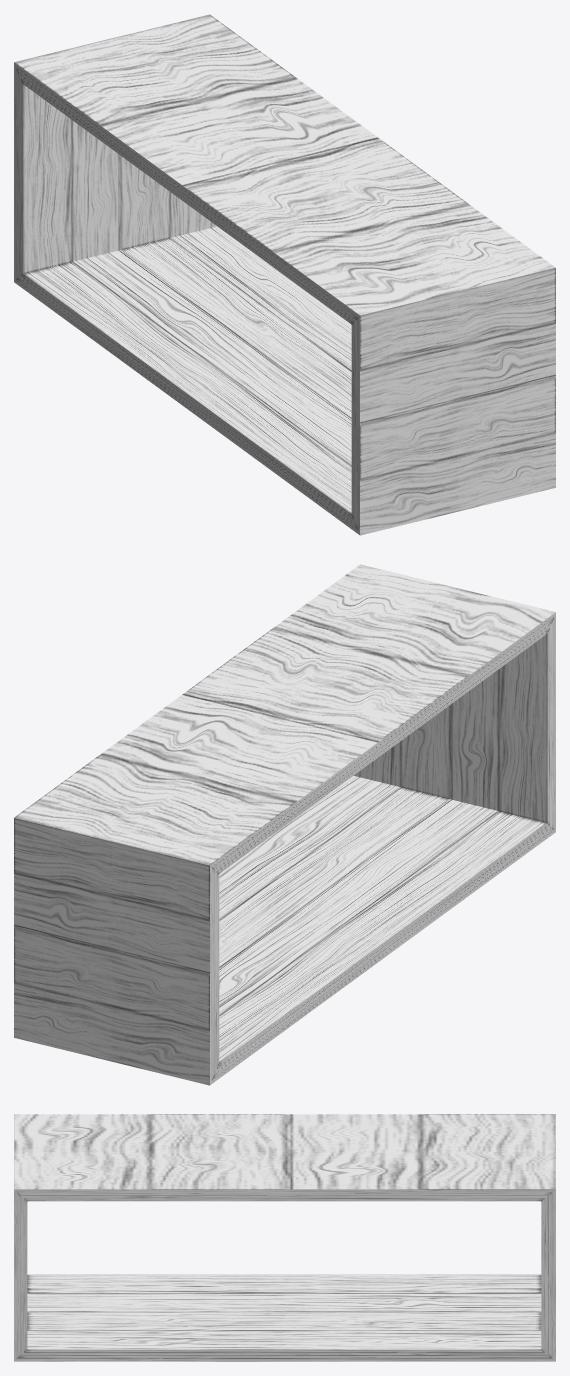
The model's file is shelves.fbx.
The picture shows the model from 3 angles, top to bottom: view 1: azimuth 30°, elevation 25°; view 2: azimuth 150°, elevation 25°; view 3: azimuth 270°, elevation 25°; orthographic projection. The views are drawn at different scales.
Parts seen in each view (by area): view 1: shelves; view 2: shelves; view 3: shelves.
Part boxes in pixels (box(x1,y1,x2,y2)): shelves: box(14, 14, 555, 535); shelves: box(14, 564, 555, 1085); shelves: box(14, 1114, 555, 1361).
Bounding box in the file's own units: 0.6693 × 0.7185 × 2.05.
